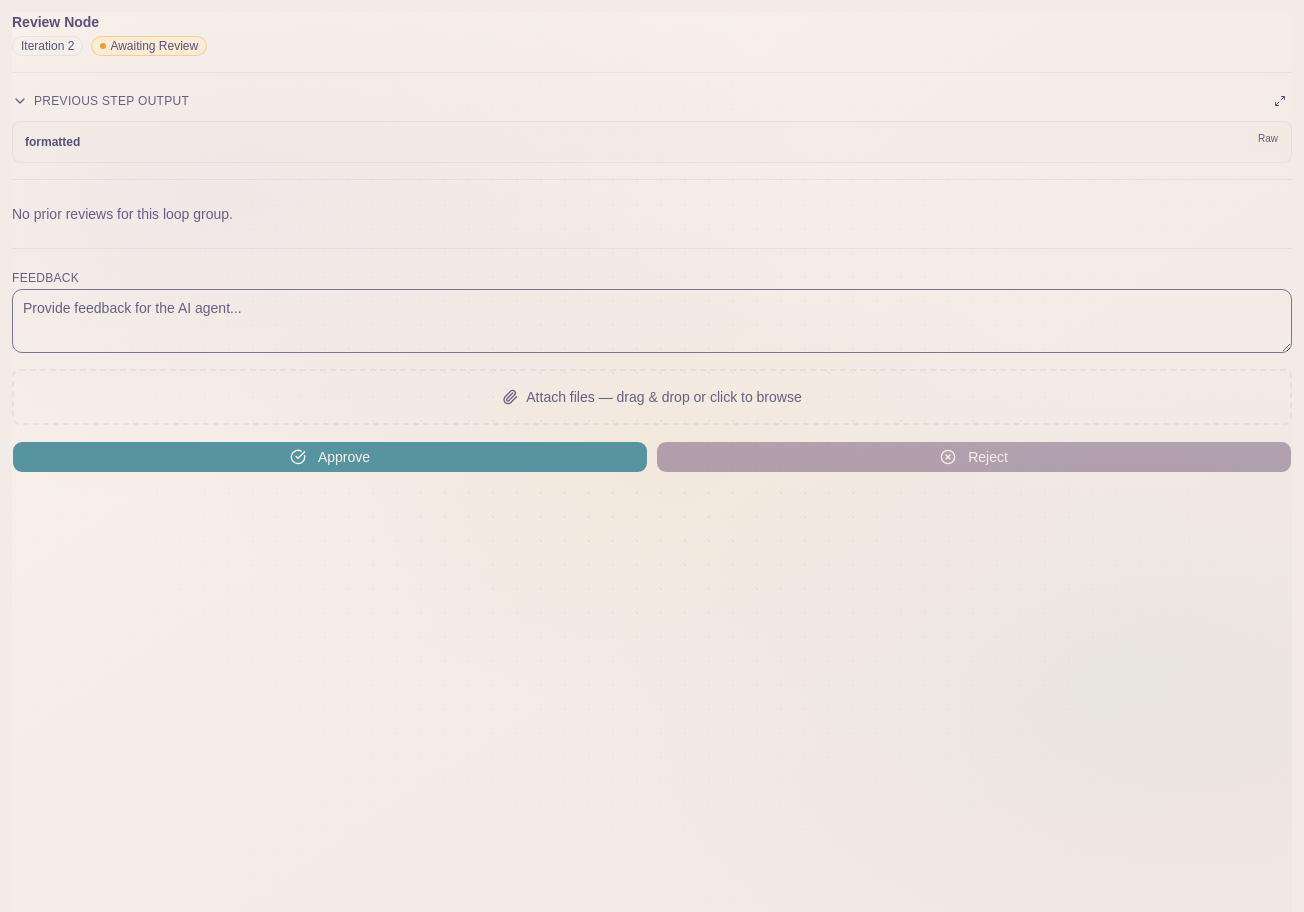
Test case: HumanGatePanel › shows Raw/Rendered toggle for predecessor output
Click the button "Raw".
click(1268, 138)  # box [1252,129,1284,148]
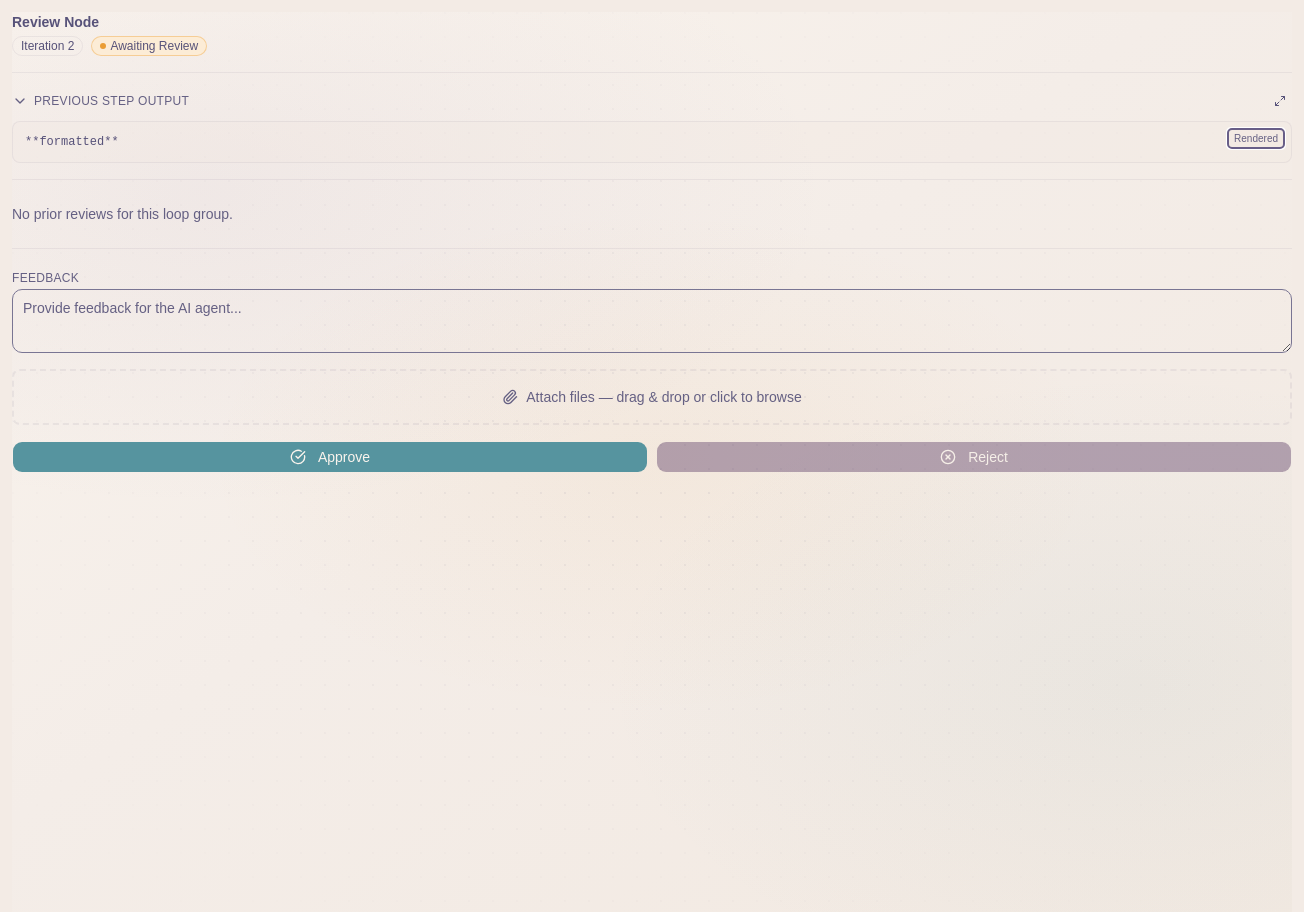
Check: the button "Rendered" is shown, box [1228,129,1284,148]
Check: the text "**formatted**" is shown, box [12,121,1292,163]
